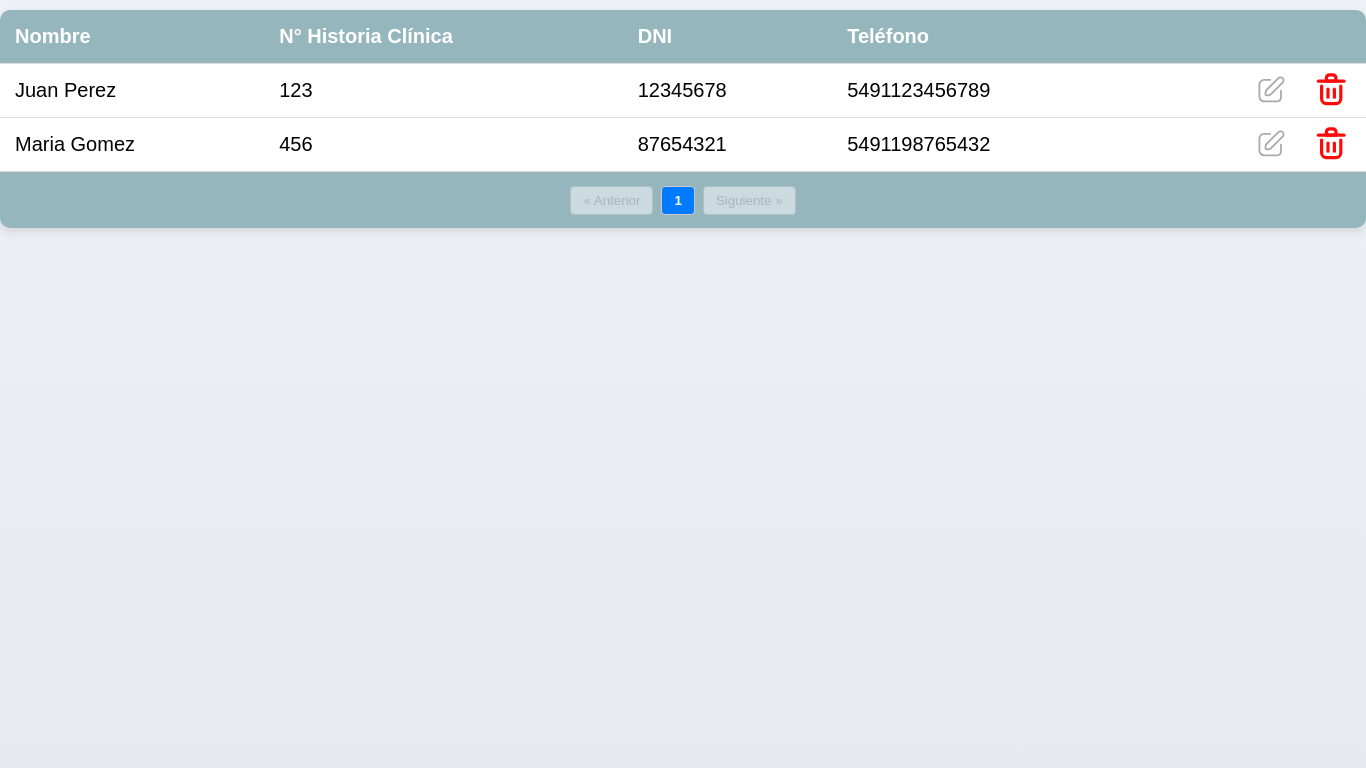
Test: PersonTable › confirma eliminación y elimina paciente
The width and height of the screenshot is (1366, 768).
Expected: the text "Juan Perez" is shown, [0, 64, 264, 118]
Click the 2nd button: [1331, 89] box [1301, 69, 1361, 109]
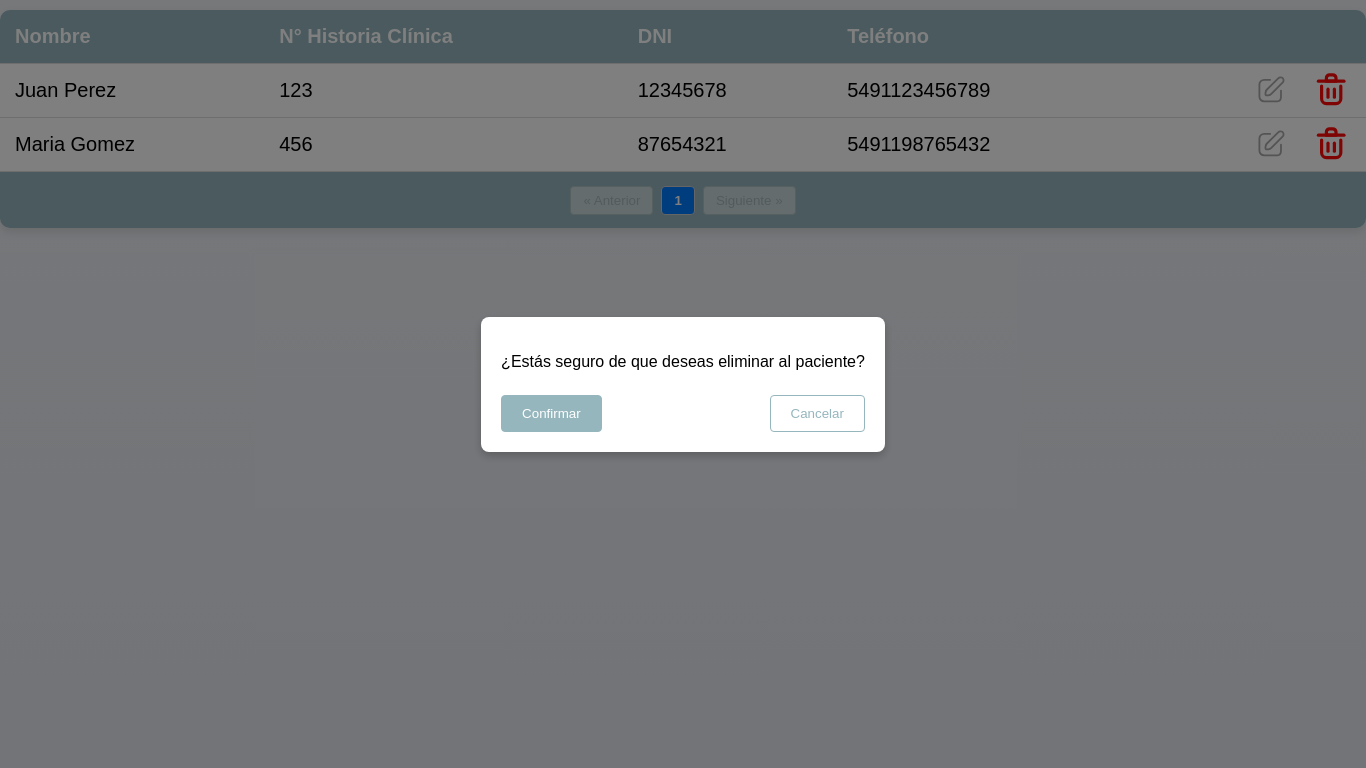
Click the button "Confirmar": [551, 413] box [501, 394, 602, 432]
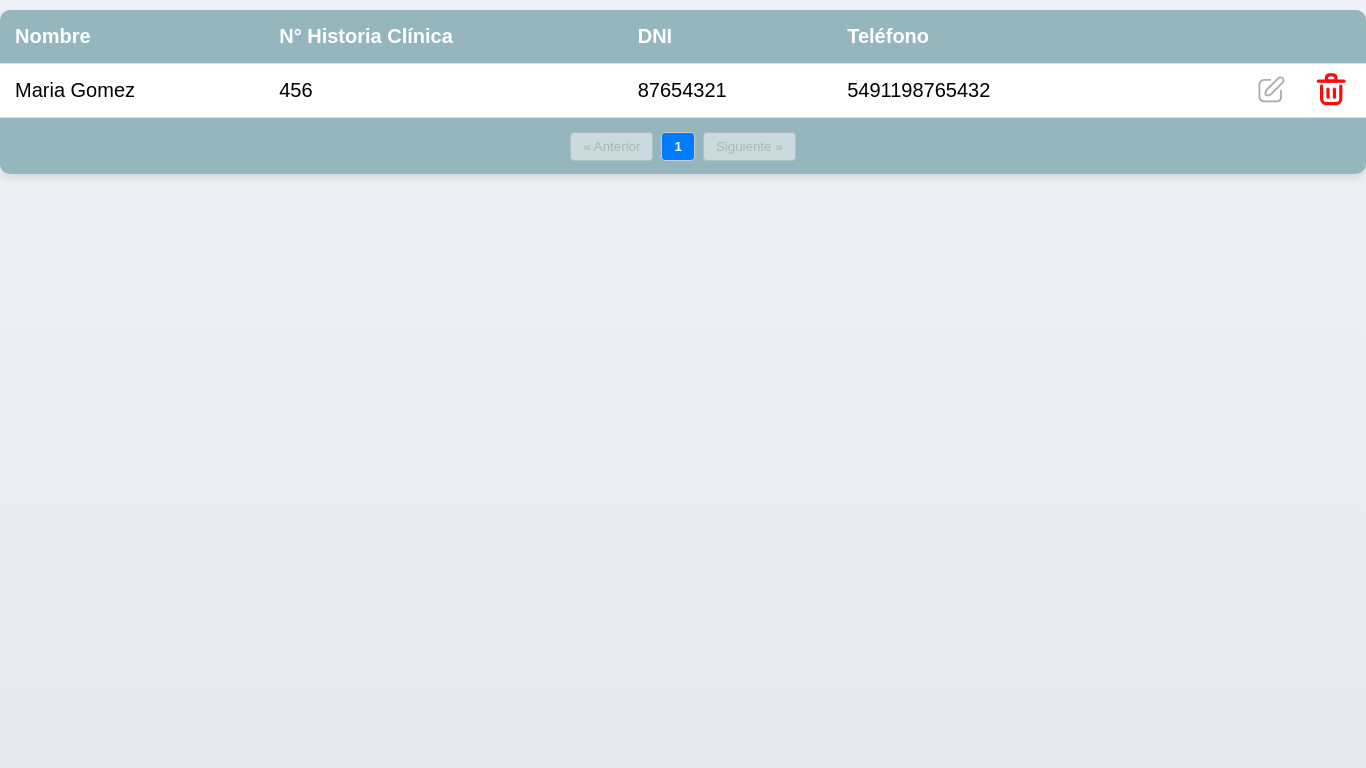
Expected: the text "Juan Perez" is gone
